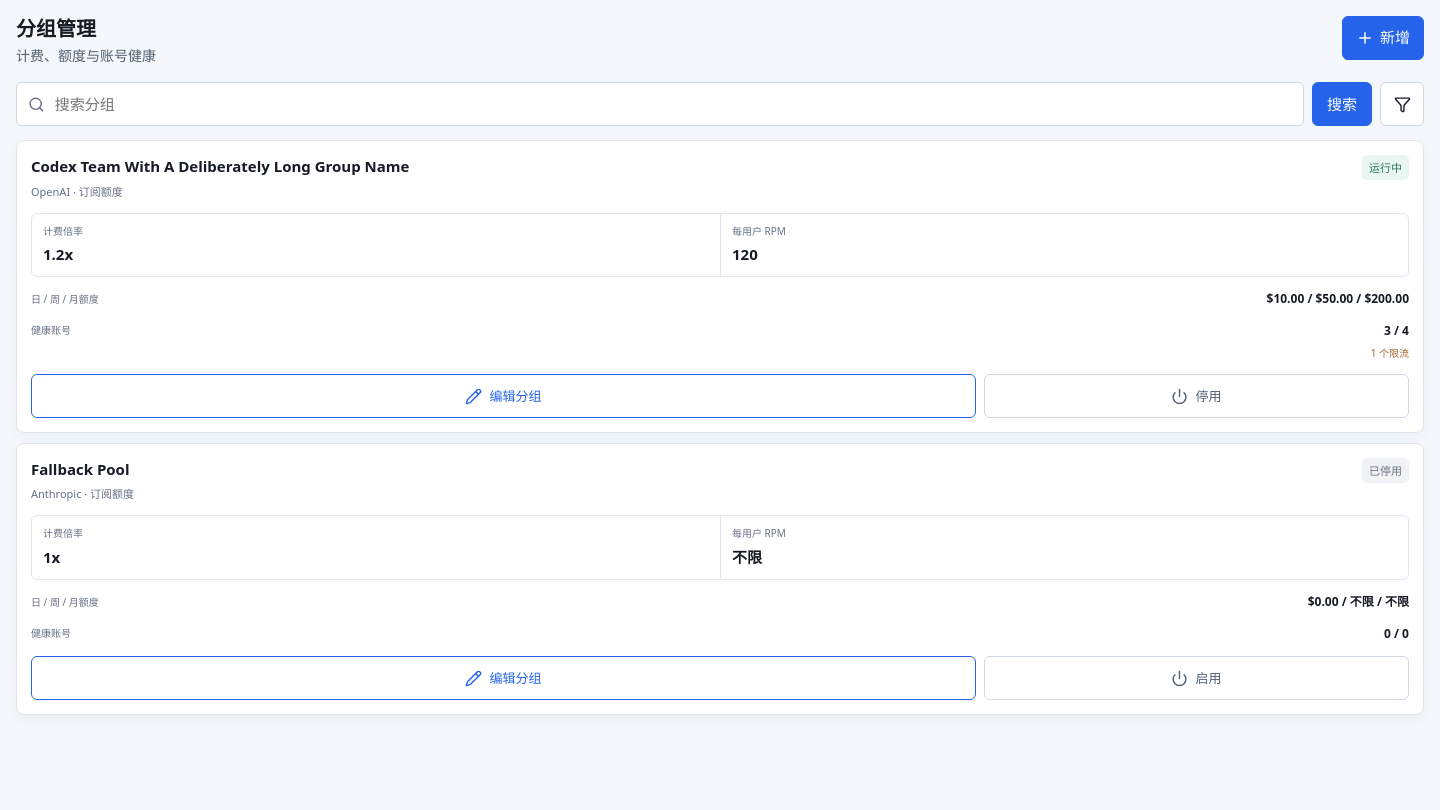
Scenario: MobileAdminGroupsView › rejects negative rate multiplier without submitting or leaking the raw value
Click the button with test id "edit-group-8". click: (503, 396)
box: [31,374,976,418]
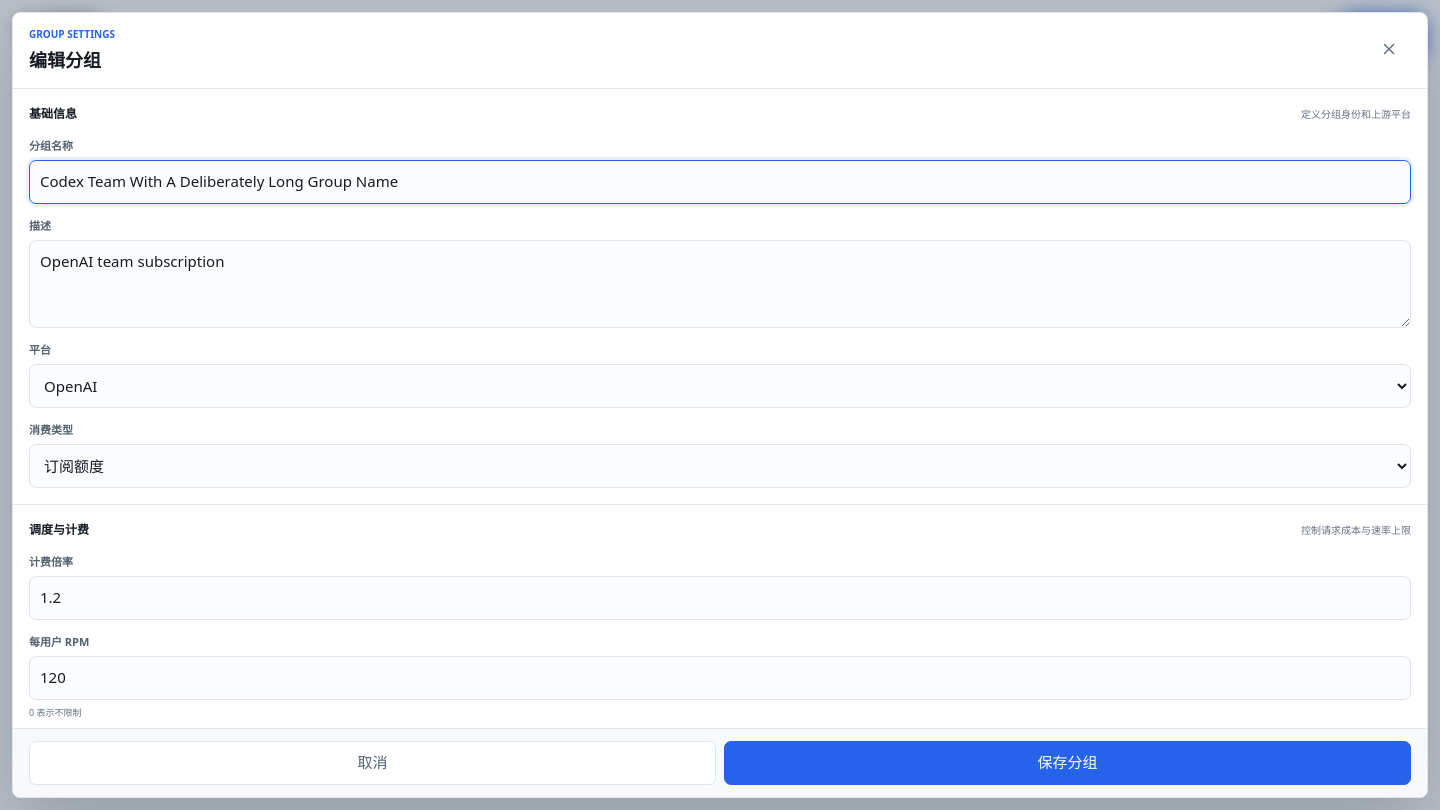
Replace the text in the number field with test id "group-rate-multiplier" with "-1". click: (720, 598)
box: [29,576,1411,620]
(page scrolled)
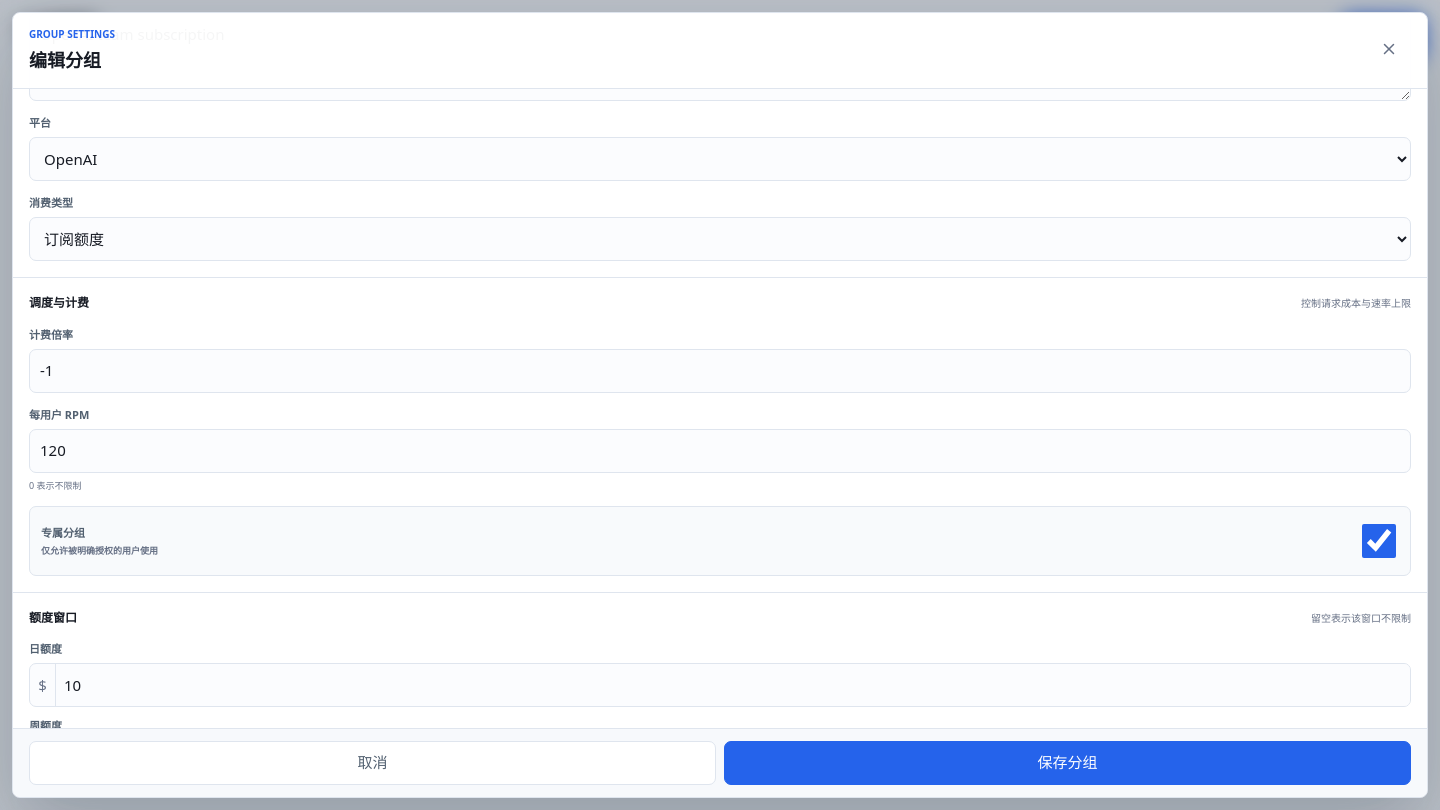
Submit the form with test id "group-editor" that starts with "基础信息"
(page scrolled)
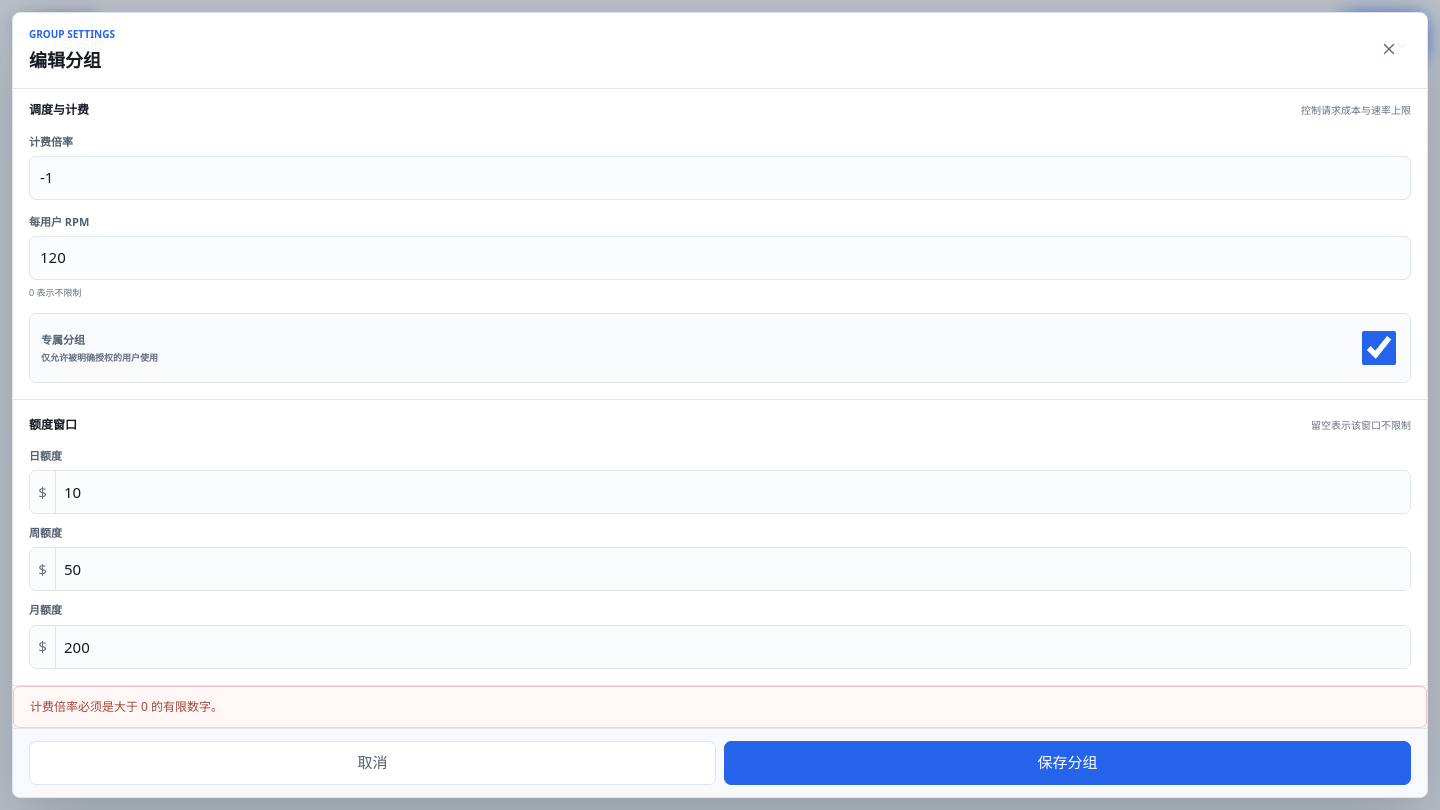
Check: the dialog with class "group-editor" that starts with "GROUP SETTINGS" is shown
Check: the message "计费倍率必须是大于 0 的有限数字。" is shown, box [13,686,1427,728]
